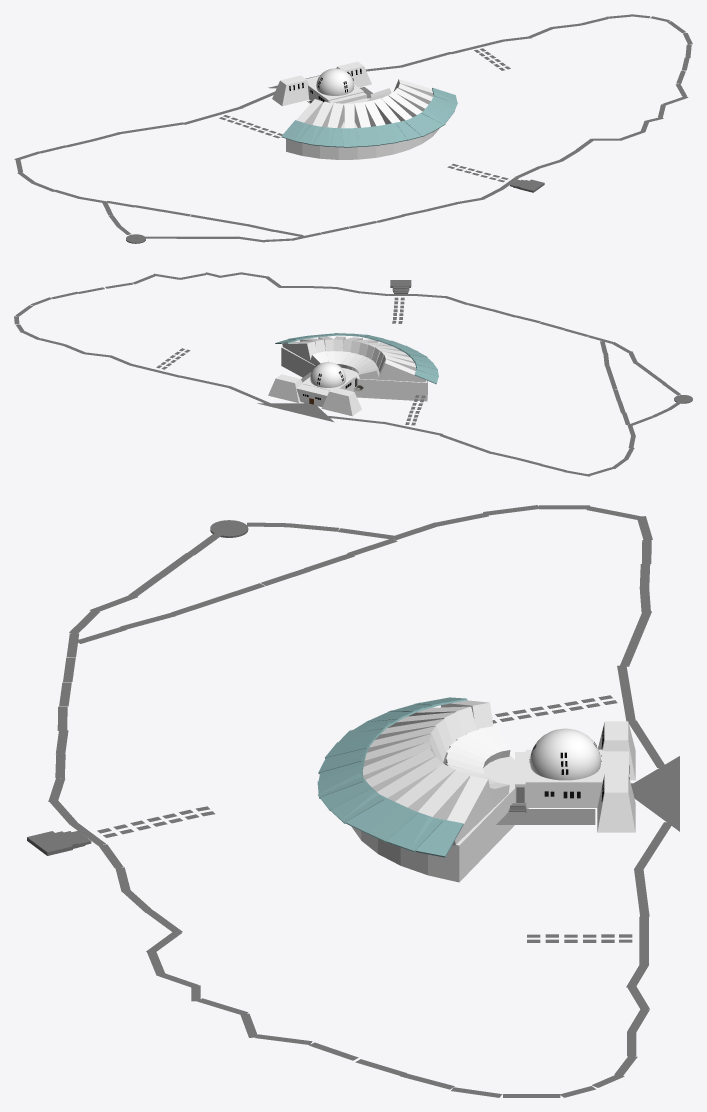
The model's file is asmundarsafn_nyast_5.obj.
The picture shows the model from 3 angles, top to bottom: view 1: azimuth 30°, elevation 25°; view 2: azimuth 150°, elevation 25°; view 3: azimuth 270°, elevation 25°; orthographic projection. The views are drawn at different scales.
Parts seen in each view (by area): view 1: Cube.047, Cube.033, syningarsalur, Sphere, h_hlid, Plane.001, v_hlid, innanhus; view 2: Cube.033, syningarsalur, Cube.047, Plane.001, h_hlid, Sphere, v_hlid, adaldyr; view 3: Cube.033, Cube.047, Plane.001, syningarsalur, Sphere, innanhus, v_hlid, h_hlid.
Part boxes in pixels (x1,y1,x2,y2): Cube.047: [281, 87, 457, 147]; Cube.033: [296, 79, 433, 128]; syningarsalur: [286, 98, 439, 159]; Sphere: [316, 68, 354, 95]; h_hlid: [272, 75, 309, 106]; Plane.001: [126, 75, 544, 243]; v_hlid: [336, 61, 371, 87]; innanhus: [308, 82, 363, 102]; Cube.033: [282, 336, 425, 382]; syningarsalur: [281, 347, 427, 401]; Cube.047: [275, 333, 438, 384]; Plane.001: [257, 280, 692, 422]; h_hlid: [321, 387, 361, 416]; Sphere: [310, 362, 345, 387]; v_hlid: [268, 374, 302, 402]; adaldyr: [296, 384, 329, 406]; Cube.033: [362, 700, 510, 845]; Cube.047: [317, 697, 467, 857]; Plane.001: [27, 520, 679, 855]; syningarsalur: [351, 755, 528, 882]; Sphere: [530, 728, 601, 780]; innanhus: [525, 749, 604, 807]; v_hlid: [597, 773, 635, 832]; h_hlid: [598, 721, 635, 780].
Bounding box in the file's own units: 147 × 9.13 × 68.62.
